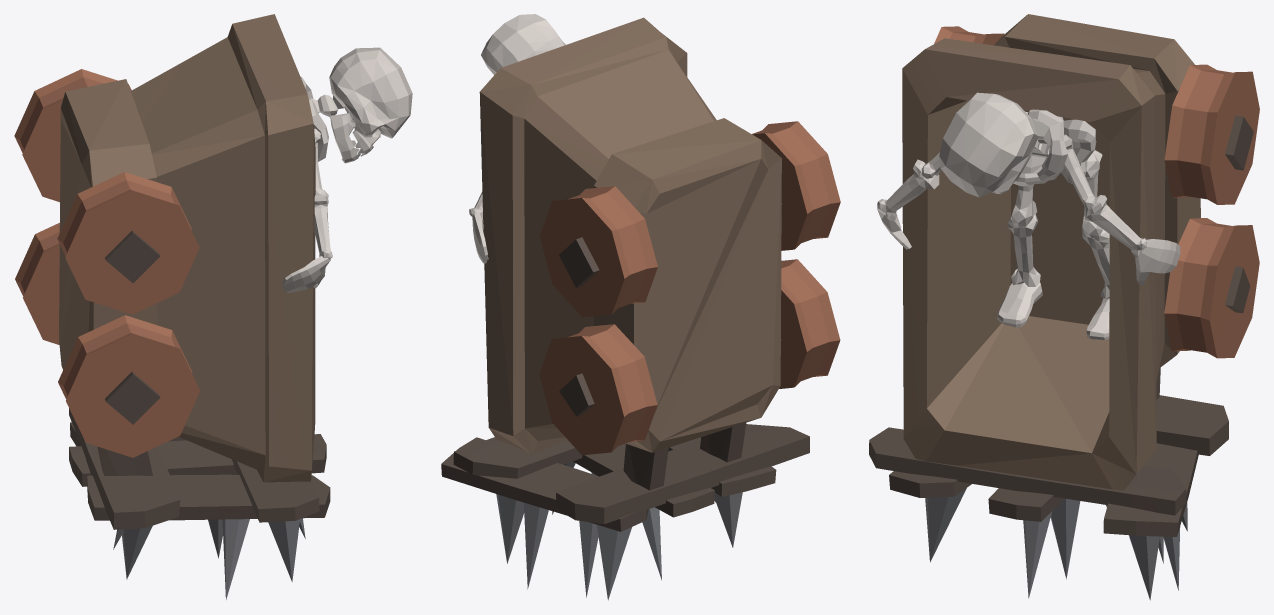
Rendered from trapMineCartCart.fbx.
3 renders of one model, left to right at view 1: azimuth 30°, elevation 25°; view 2: azimuth 150°, elevation 25°; view 3: azimuth 270°, elevation 25°, orthographic. The views are drawn at different scales.
Visible parts, largest first — view 1: trapMineCartCart, trapMineCartWheel1, trapMineCartWheel2; view 2: trapMineCartCart, trapMineCartWheel1, trapMineCartWheel2; view 3: trapMineCartCart, trapMineCartWheel1, trapMineCartWheel2.
Boxes of the visible parts, x1=… form: trapMineCartCart: x1=59, y1=14, x2=412, y2=599; trapMineCartWheel1: x1=14, y1=69, x2=199, y2=314; trapMineCartWheel2: x1=15, y1=222, x2=199, y2=457; trapMineCartCart: x1=441, y1=14, x2=809, y2=600; trapMineCartWheel1: x1=539, y1=121, x2=840, y2=317; trapMineCartWheel2: x1=539, y1=259, x2=840, y2=455; trapMineCartCart: x1=869, y1=14, x2=1253, y2=600; trapMineCartWheel1: x1=934, y1=26, x2=1259, y2=204; trapMineCartWheel2: x1=1164, y1=218, x2=1259, y2=358.
Size of the model in its own units: 2.14 by 2.94 by 1.92.
Materials: 2 (2 with a texture image).
